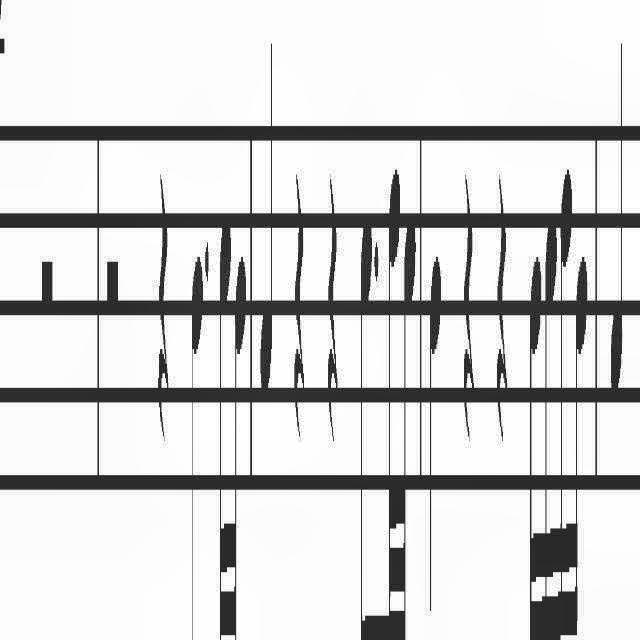Eighth-note: (359, 203, 373, 640), (190, 232, 202, 640)
Quarter-note: (258, 21, 274, 409), (428, 244, 442, 626), (610, 28, 622, 410)
Quarter-rest: (157, 163, 170, 443), (496, 156, 508, 450), (294, 170, 306, 450), (462, 170, 474, 446), (327, 158, 338, 450)
Sixteenth-note: (558, 160, 572, 640), (542, 203, 557, 640), (572, 247, 587, 640), (528, 252, 542, 640)
